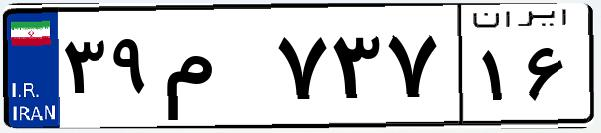1: (475, 38, 525, 113)
3: (330, 28, 385, 110), (57, 26, 110, 100)
6: (525, 38, 570, 115)
7: (270, 28, 330, 110), (385, 28, 445, 110)
9: (110, 28, 158, 98)
م: (158, 20, 270, 120)
